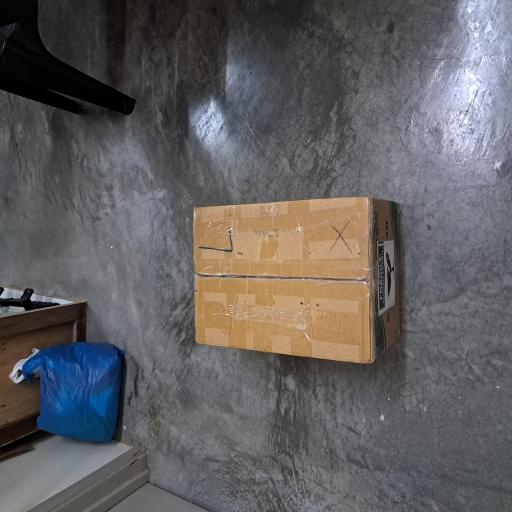cardboard: (107, 255, 236, 512)
plastic bag: (50, 32, 129, 164)
